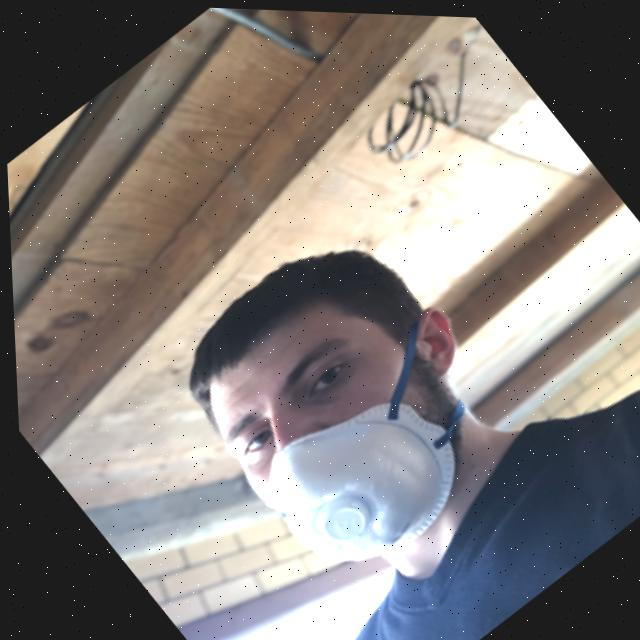Mask: (215, 286, 550, 601)
